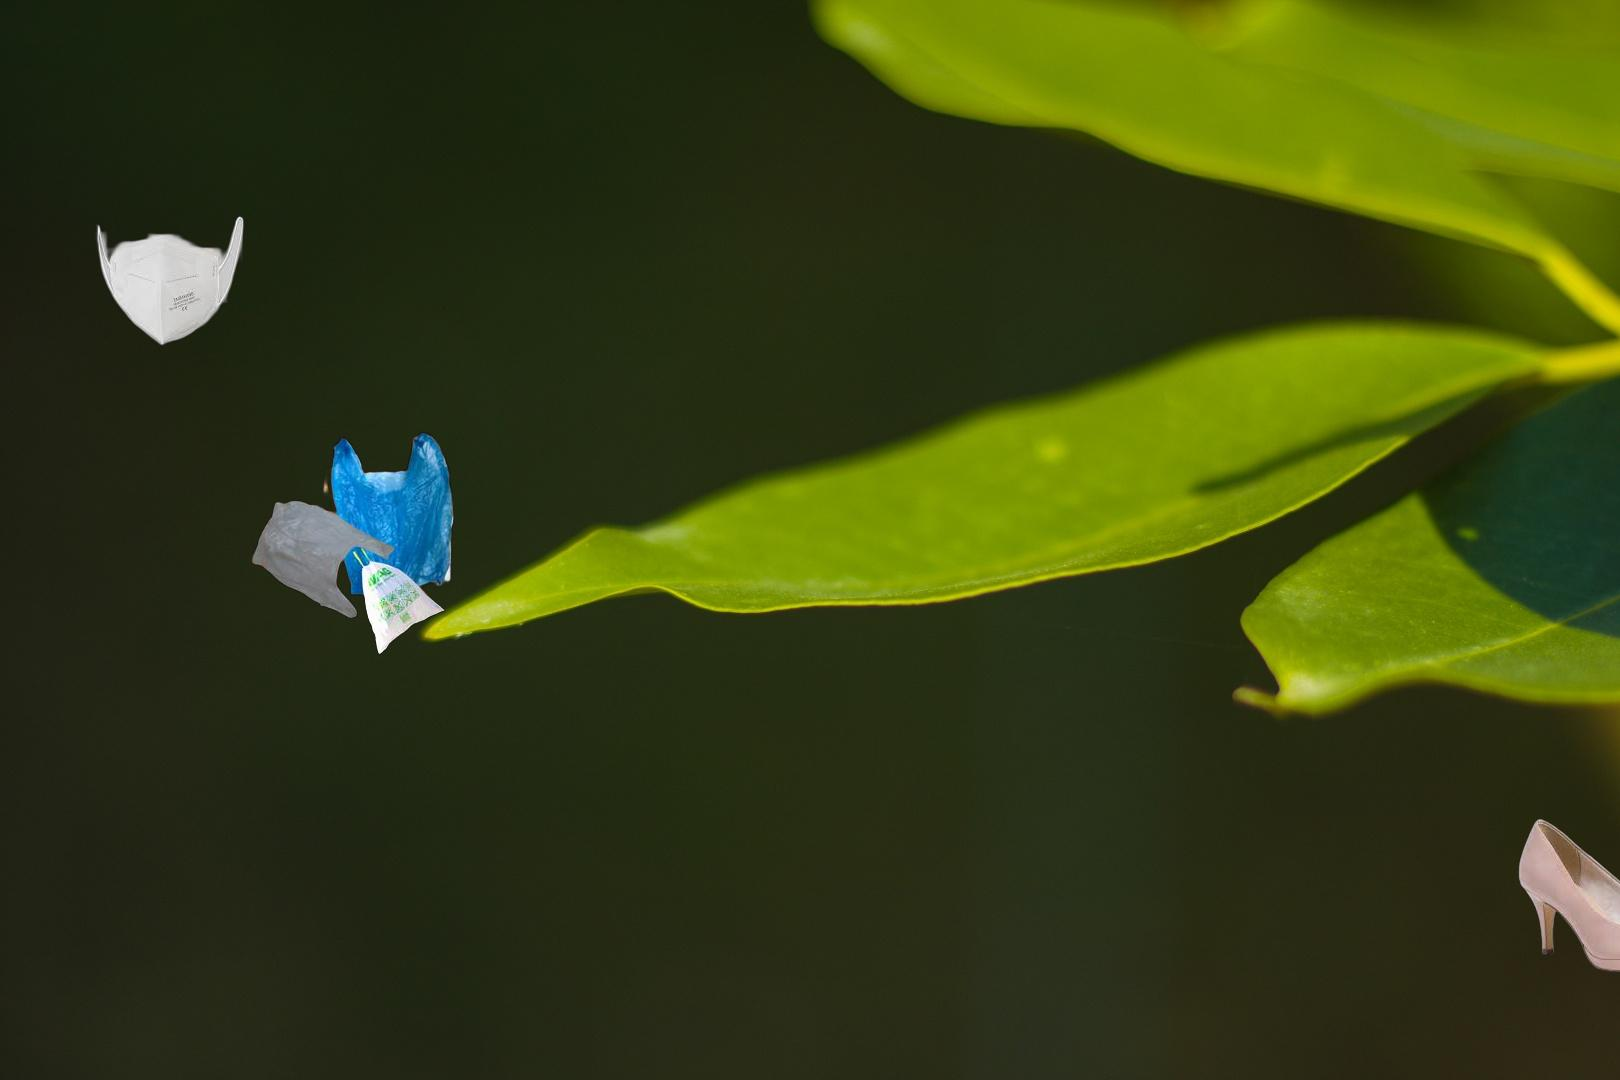plastic-bag: (250, 430, 457, 657)
shoes: (1516, 816, 1620, 976)
trash: (90, 213, 247, 350)
